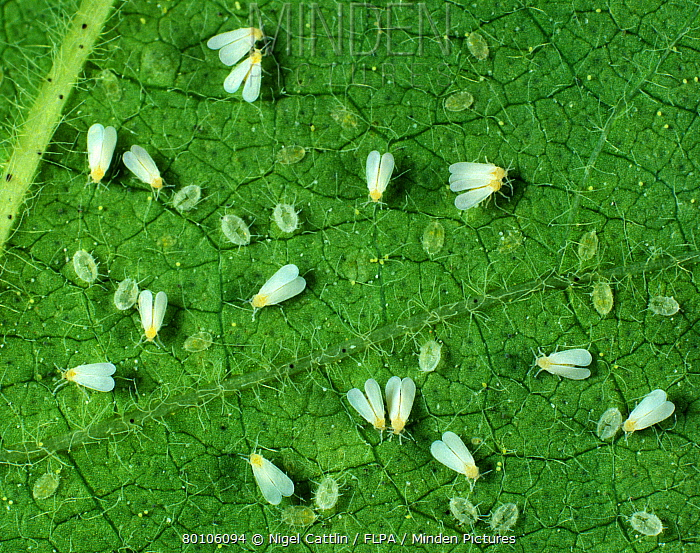Tobacco Whitefly: (437, 141, 543, 238), (39, 341, 148, 409), (236, 432, 303, 530), (612, 380, 689, 453), (520, 331, 600, 395), (217, 26, 274, 114), (346, 354, 391, 447), (382, 361, 427, 453), (118, 125, 161, 220), (353, 128, 394, 221), (242, 254, 306, 306), (75, 121, 116, 198), (144, 280, 180, 363), (436, 427, 480, 490)
